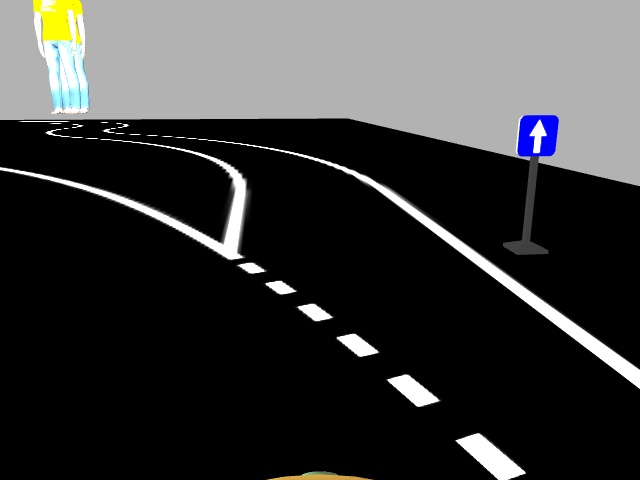OneWay: (518, 113, 556, 156)
